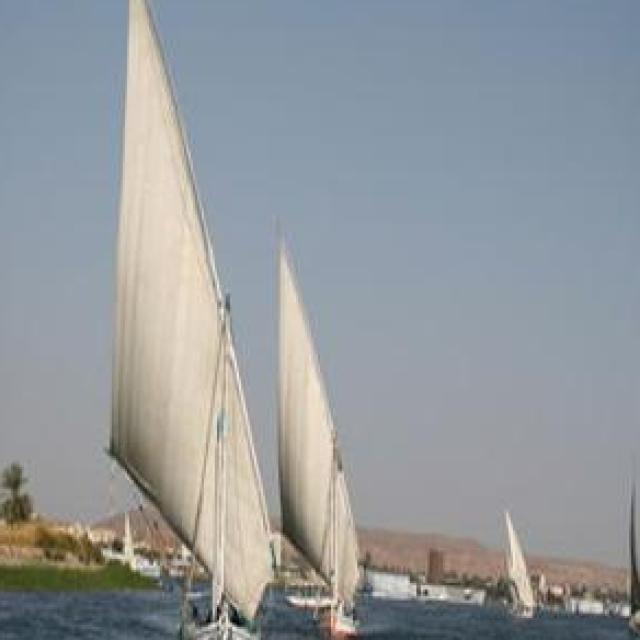sailboat: (90, 11, 267, 640), (254, 247, 384, 638), (496, 490, 557, 634), (592, 474, 640, 632)
